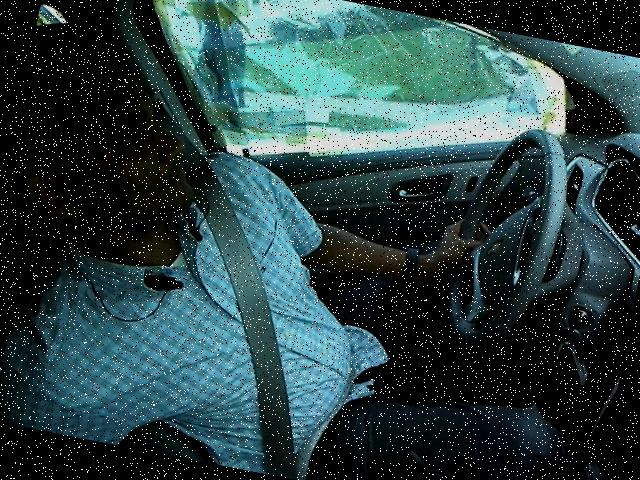c5 - Reaching Behind: (0, 19, 582, 479)
